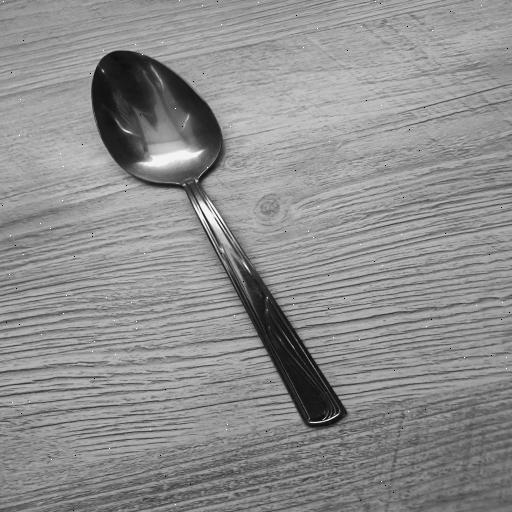spoon: (86, 45, 343, 429)
